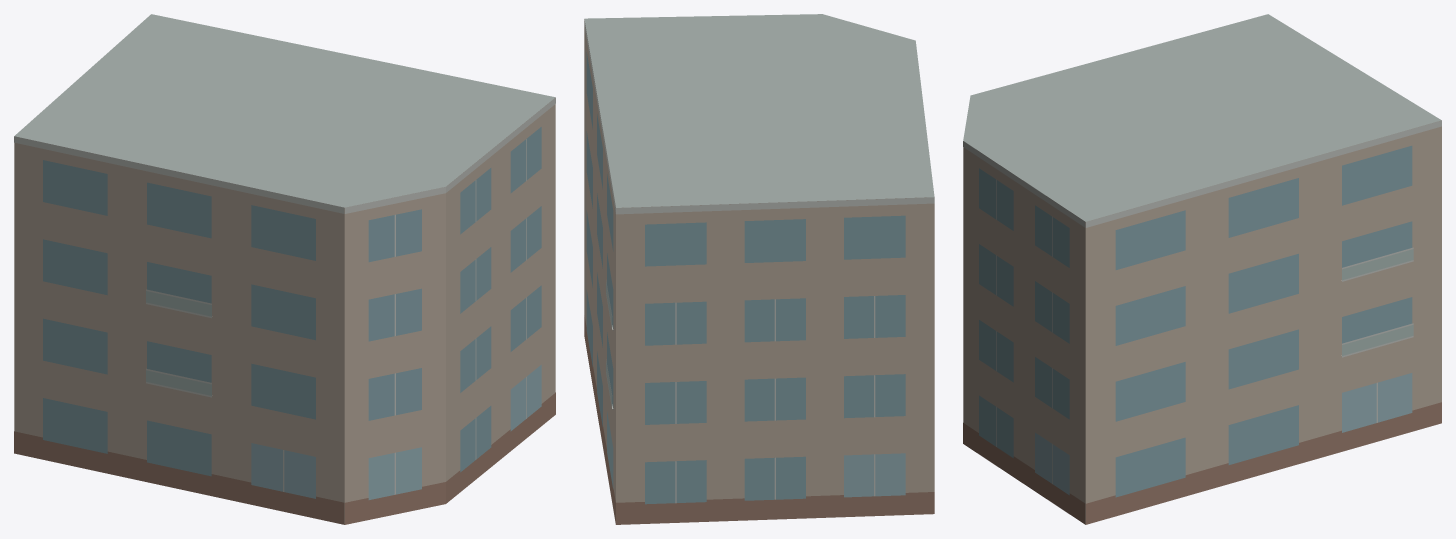
File: survey-upis-33035937.glb
The picture shows the model from 3 angles, left to right: view 1: azimuth 30°, elevation 25°; view 2: azimuth 150°, elevation 25°; view 3: azimuth 270°, elevation 25°; orthographic projection. The views are drawn at different scales.
Parts seen in each view (by area): view 1: survey-upis-33035937.tmp; view 2: survey-upis-33035937.tmp; view 3: survey-upis-33035937.tmp.
Part boxes in pixels (x1,y1,x2,y2): survey-upis-33035937.tmp: (14,14,555,524); survey-upis-33035937.tmp: (584,14,934,524); survey-upis-33035937.tmp: (963,14,1441,524).
Size of the model in its own units: 17.67 by 12 by 17.19.
